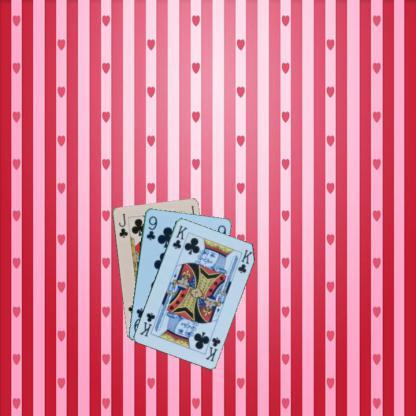9c: (144, 213, 158, 242)
Jc: (116, 211, 128, 238)
Kc: (203, 334, 222, 362), (170, 223, 189, 250)
